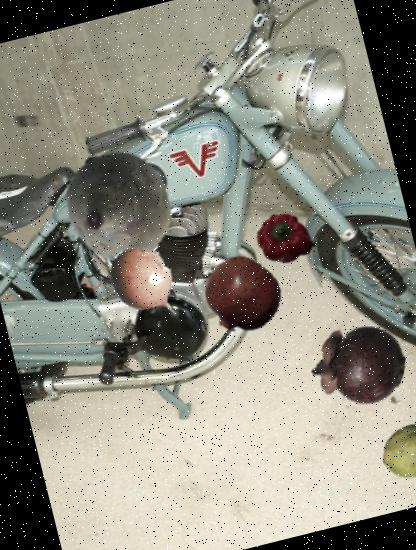Beetroot: (47, 135, 189, 277)
Granadilla: (96, 234, 198, 336)
Limes: (375, 415, 416, 487)
Mangostan: (304, 308, 416, 420)
Pepper: (250, 204, 324, 276)
Pomegranate: (196, 248, 290, 344)
